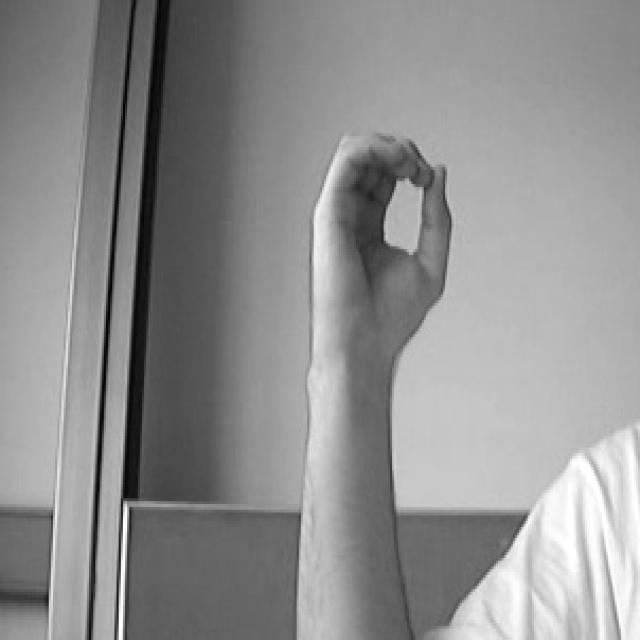O: (284, 112, 474, 369)
